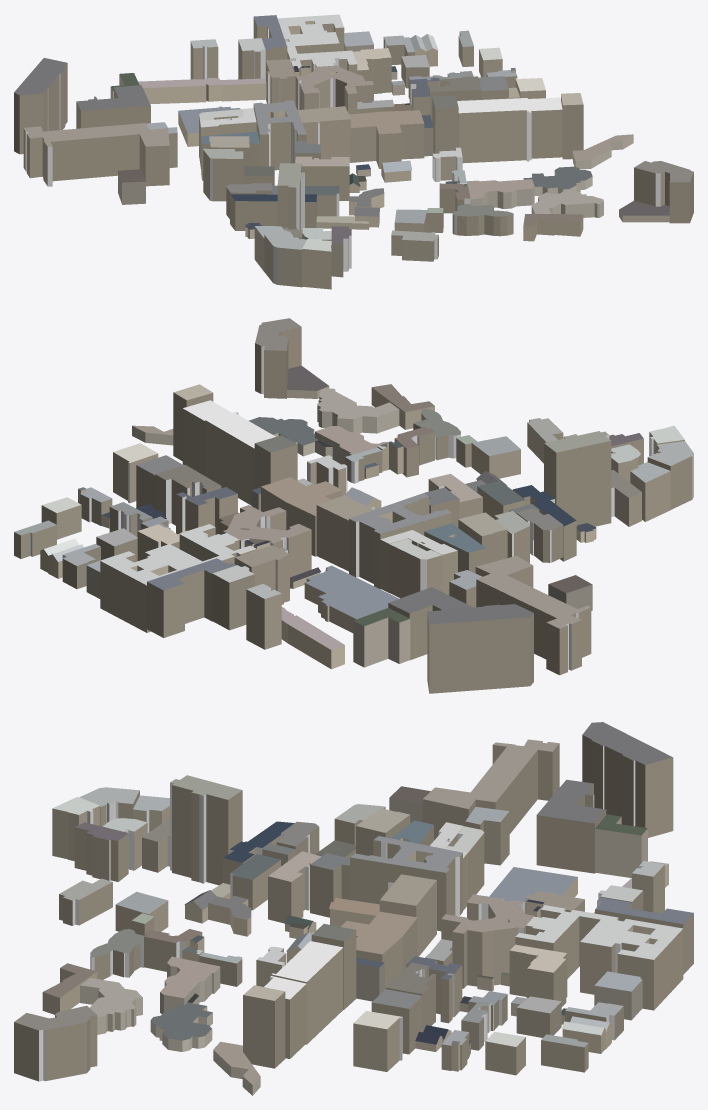
The picture shows the model from 3 angles, top to bottom: view 1: azimuth 30°, elevation 25°; view 2: azimuth 150°, elevation 25°; view 3: azimuth 270°, elevation 25°; orthographic projection. The views are drawn at different scales.
Visible parts, largest first — view 1: tuile; view 2: tuile; view 3: tuile.
Part boxes in pixels (box(x1,y1,x2,y2)): tuile: box(14, 14, 693, 289); tuile: box(14, 318, 693, 693); tuile: box(14, 722, 693, 1095).
Bounding box in the file's own units: 295 × 40.74 × 281.
